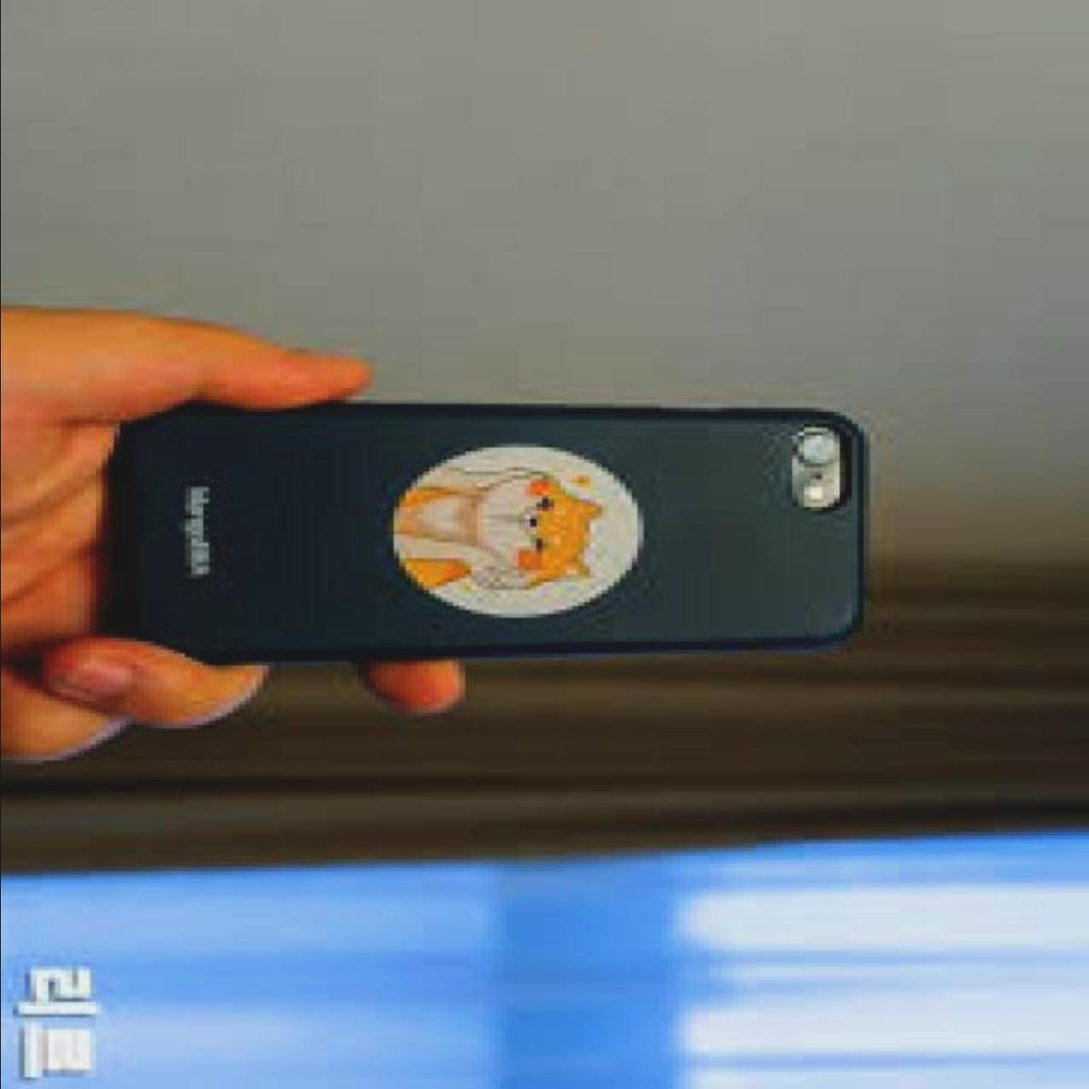phone: (114, 396, 876, 676)
